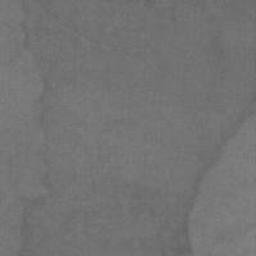Water spot: (18, 0, 256, 256)
